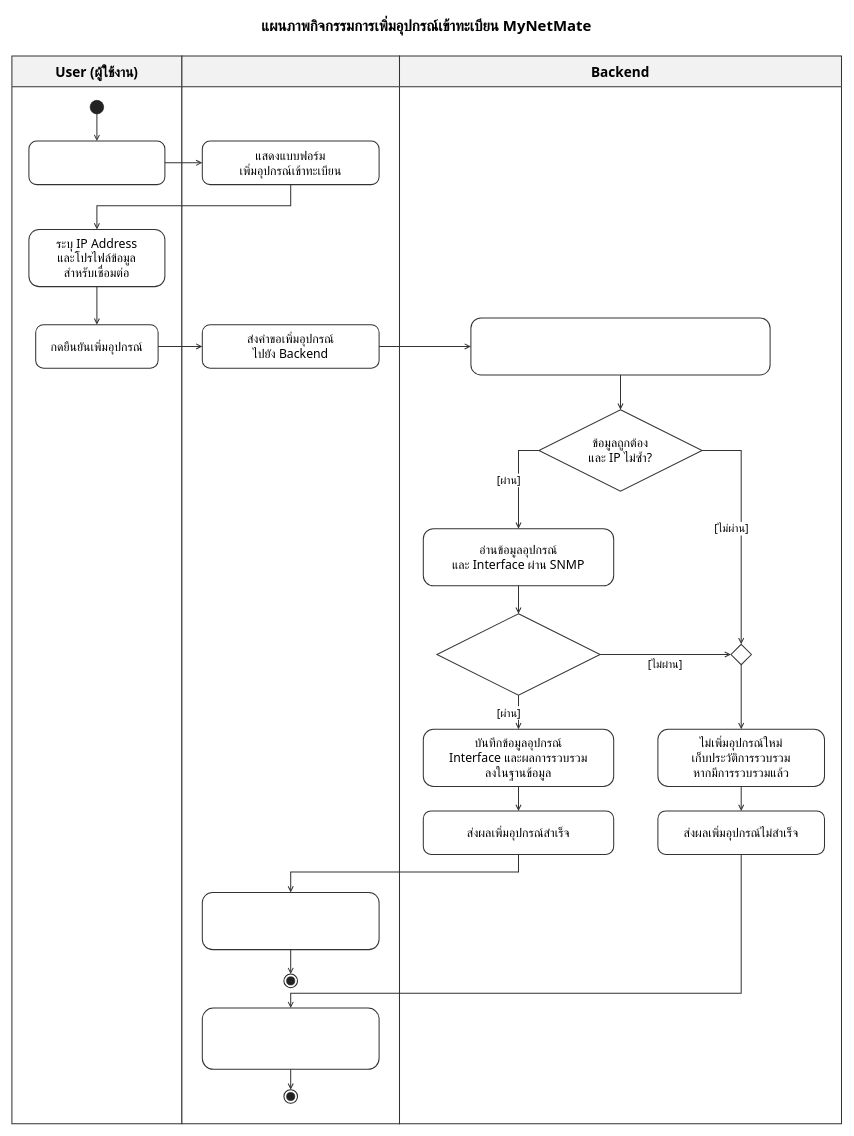
Image size: 854x1136. Some labels were removed from this diagram. Here are the shapes that lost their labels. From the top down, the box of each, then its label:
(28, 140, 165, 185): เลือกเพิ่มอุปกรณ์
(470, 317, 770, 375): ตรวจสอบข้อมูล โปรไฟล์เชื่อมต่อ และความซ้ำของ IP Address
(181, 55, 400, 1124): Frontend
(436, 613, 600, 696): ได้ข้อมูลที่จำเป็น และอุปกรณ์ไม่ซ้ำ?
(201, 892, 379, 950): ปรับปรุงรายการอุปกรณ์ และแสดงข้อความแจ้งผลสำเร็จ
(201, 1007, 379, 1070): แสดงข้อความแจ้งข้อผิดพลาด เพื่อให้ตรวจสอบข้อมูล หรือการเชื่อมต่ออีกครั้ง
